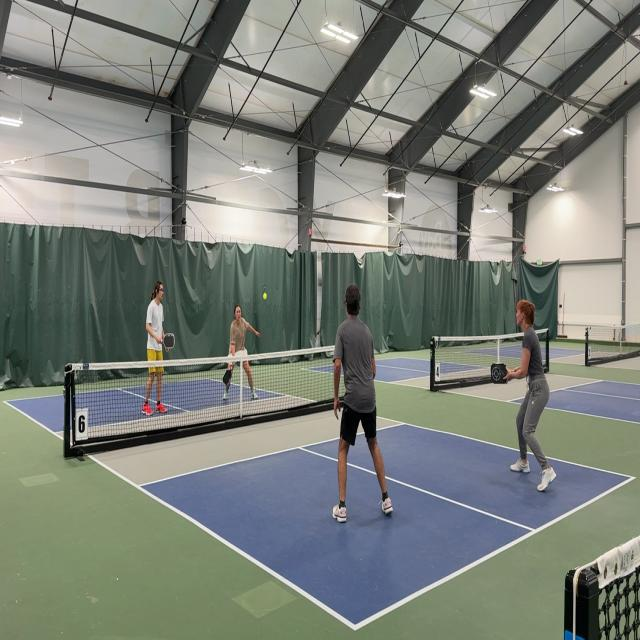ball: (263, 293, 267, 300)
